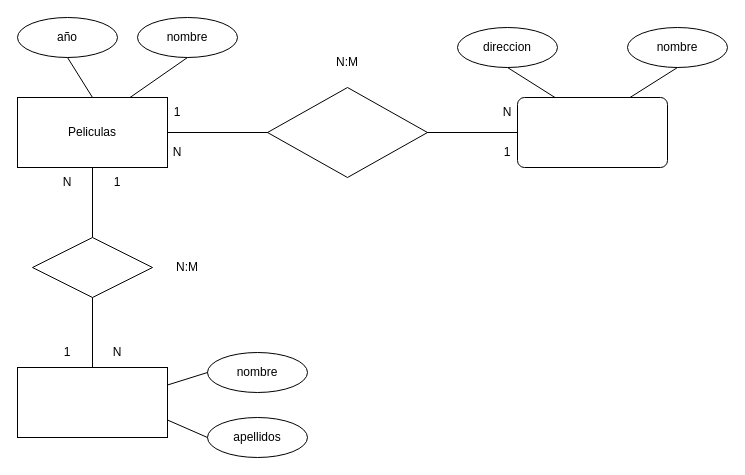
This 745x475 diagram has some shape labels left out. The centre of each missing label's shape, as x and y in pixels:
Actores: [92,402]
Actuan: [92,267]
Producidas: [347,132]
Productora: [592,132]
